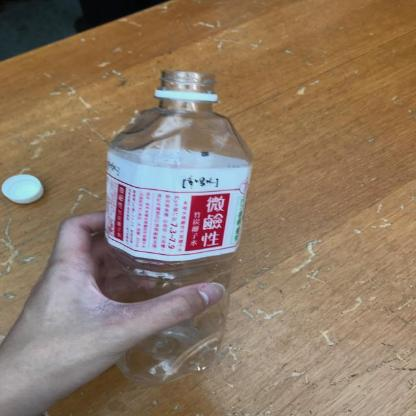Plastic Bottle: (104, 71, 254, 386)
